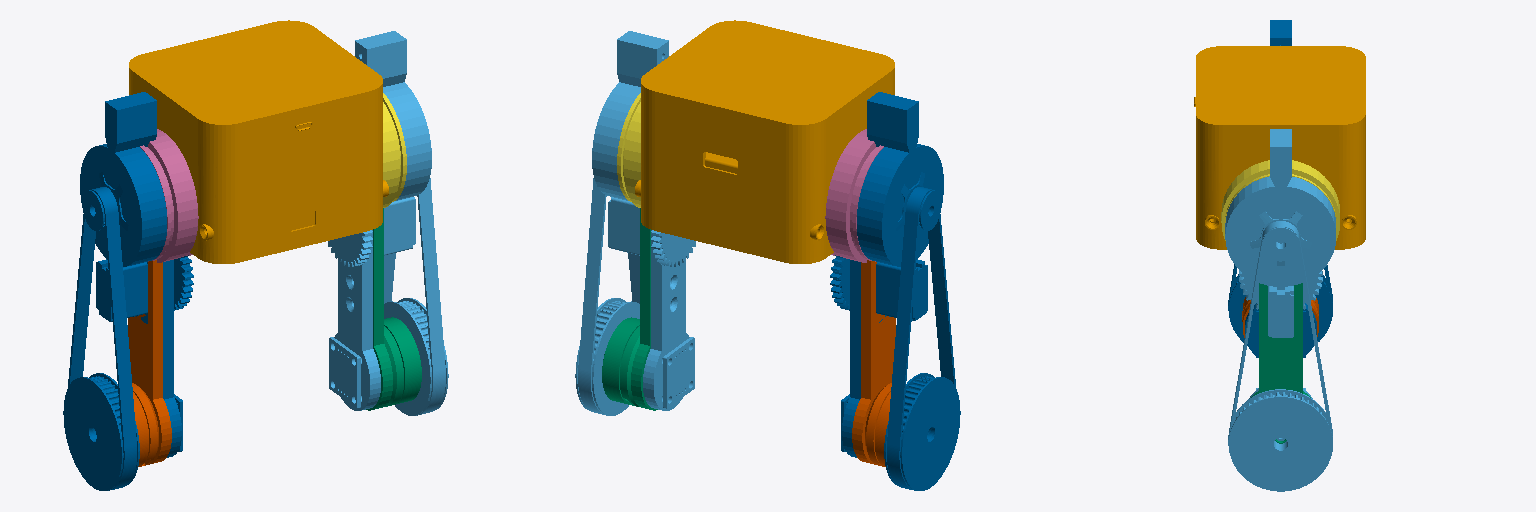
robot.urdf — ria:
<?xml version="1.0"?>
<robot name="ria">
  <mujoco>
    <compiler discardvisual="false" fusestatic="false" />
  </mujoco>
  <link name="head">
    <visual>
      <origin xyz="0 0 0" />
      <geometry><mesh filename="build/stl/head_top.stl" scale="0.001 0.001 0.001" /></geometry>
    </visual>
    <visual>
      <origin xyz="0 0 0" />
      <geometry><mesh filename="build/stl/head_bottom.stl" scale="0.001 0.001 0.001" /></geometry>
    </visual>
    <visual>
      <origin xyz="0 0 0" />
      <geometry><mesh filename="build/stl/head_tray.stl" scale="0.001 0.001 0.001" /></geometry>
    </visual>
    <visual>
      <origin xyz="0 0 0" />
      <geometry><mesh filename="build/stl/battery_shoe.stl" scale="0.001 0.001 0.001" /></geometry>
    </visual>
    <visual>
      <origin xyz="0 0 0" />
      <geometry><mesh filename="build/stl/tray_spacer_0.stl" scale="0.001 0.001 0.001" /></geometry>
    </visual>
    <visual>
      <origin xyz="0 0 0" />
      <geometry><mesh filename="build/stl/tray_spacer_1.stl" scale="0.001 0.001 0.001" /></geometry>
    </visual>
    <visual>
      <origin xyz="0 0 0" />
      <geometry><mesh filename="build/stl/tray_spacer_2.stl" scale="0.001 0.001 0.001" /></geometry>
    </visual>
    <visual>
      <origin xyz="0 0 0" />
      <geometry><mesh filename="build/stl/tray_spacer_3.stl" scale="0.001 0.001 0.001" /></geometry>
    </visual>
    <visual>
      <origin xyz="0 0 0" />
      <geometry><mesh filename="build/stl/simplefocmini_dual_0.stl" scale="0.001 0.001 0.001" /></geometry>
    </visual>
    <visual>
      <origin xyz="0 0 0" />
      <geometry><mesh filename="build/stl/simplefocmini_dual_1.stl" scale="0.001 0.001 0.001" /></geometry>
    </visual>
    <visual>
      <origin xyz="0 0 0" />
      <geometry><mesh filename="build/stl/tca9548a_2.stl" scale="0.001 0.001 0.001" /></geometry>
    </visual>
    <visual>
      <origin xyz="0 0 0" />
      <geometry><mesh filename="build/stl/mp1584_3.stl" scale="0.001 0.001 0.001" /></geometry>
    </visual>
    <visual>
      <origin xyz="0 0 0" />
      <geometry><mesh filename="build/stl/xt60h_m_4.stl" scale="0.001 0.001 0.001" /></geometry>
    </visual>
    <visual>
      <origin xyz="0 0 0" />
      <geometry><mesh filename="build/stl/tattu_lipo_5.stl" scale="0.001 0.001 0.001" /></geometry>
    </visual>
    <visual>
      <origin xyz="0 0 0" />
      <geometry><mesh filename="build/stl/pipico_6.stl" scale="0.001 0.001 0.001" /></geometry>
    </visual>
    <visual>
      <origin xyz="0 0 0" />
      <geometry><mesh filename="build/stl/mpu6050_7.stl" scale="0.001 0.001 0.001" /></geometry>
    </visual>
    <inertial>
      <origin xyz="-0.000508684 2.28536e-05 -0.0070686" />
      <mass value="0.248373" />
      <inertia ixx="0.000197886" ixy="2.19121e-06" ixz="2.16542e-06" iyy="0.000145722" iyz="-4.46007e-07" izz="0.00021414" />
    </inertial>
    <collision>
      <origin xyz="0 0 0" />
      <geometry><box size="0.08 0.084 0.06" /></geometry>
    </collision>
  </link>
  <link name="upper_leg_r">
    <visual>
      <origin xyz="0 0 0" />
      <geometry><mesh filename="build/stl/upper_leg.stl" scale="0.001 0.001 0.001" /></geometry>
    </visual>
    <visual>
      <origin xyz="0 0 0" />
      <geometry><mesh filename="build/stl/pinion.stl" scale="0.001 0.001 0.001" /></geometry>
    </visual>
    <visual>
      <origin xyz="0 0 0" />
      <geometry><mesh filename="build/stl/sprocket_upper.stl" scale="0.001 0.001 0.001" /></geometry>
    </visual>
    <visual>
      <origin xyz="0 0 0" />
      <geometry><mesh filename="build/stl/belt.stl" scale="0.001 0.001 0.001" /></geometry>
    </visual>
    <visual>
      <origin xyz="0 0 0" />
      <geometry><mesh filename="build/stl/ring.stl" scale="0.001 0.001 0.001" /></geometry>
    </visual>
    <visual>
      <origin xyz="0 0 0" />
      <geometry><mesh filename="build/stl/sun.stl" scale="0.001 0.001 0.001" /></geometry>
    </visual>
    <visual>
      <origin xyz="0 0 0" />
      <geometry><mesh filename="build/stl/pulley.stl" scale="0.001 0.001 0.001" /></geometry>
    </visual>
    <visual>
      <origin xyz="0 0 0" />
      <geometry><mesh filename="build/stl/magnet_knee.stl" scale="0.001 0.001 0.001" /></geometry>
    </visual>
    <visual>
      <origin xyz="0 0 0" />
      <geometry><mesh filename="build/stl/5010_body_0.stl" scale="0.001 0.001 0.001" /></geometry>
    </visual>
    <visual>
      <origin xyz="0 0 0" />
      <geometry><mesh filename="build/stl/5010_rotor_1.stl" scale="0.001 0.001 0.001" /></geometry>
    </visual>
    <visual>
      <origin xyz="0 0 0" />
      <geometry><mesh filename="build/stl/sg90_body_2.stl" scale="0.001 0.001 0.001" /></geometry>
    </visual>
    <visual>
      <origin xyz="0 0 0" />
      <geometry><mesh filename="build/stl/as5600_4.stl" scale="0.001 0.001 0.001" /></geometry>
    </visual>
    <inertial>
      <origin xyz="-6.60249e-20 -0.0230998 0.0162152" />
      <mass value="0.151281" />
      <inertia ixx="0.000248851" ixy="-1.57411e-21" ixz="3.31057e-22" iyy="3.20411e-05" iyz="3.60401e-07" izz="0.000260492" />
    </inertial>
    <collision>
      <origin xyz="0 -0.05 0.01415" />
      <geometry><box size="0.02 0.1 0.0365" /></geometry>
    </collision>
  </link>
  <link name="lower_leg_r">
    <visual>
      <origin xyz="0 0.1 0" />
      <geometry><mesh filename="build/stl/lower_leg.stl" scale="0.001 0.001 0.001" /></geometry>
    </visual>
    <visual>
      <origin xyz="0 0.1 0" />
      <geometry><mesh filename="build/stl/planet_0.stl" scale="0.001 0.001 0.001" /></geometry>
    </visual>
    <visual>
      <origin xyz="0 0.1 0" />
      <geometry><mesh filename="build/stl/planet_1.stl" scale="0.001 0.001 0.001" /></geometry>
    </visual>
    <visual>
      <origin xyz="0 0.1 0" />
      <geometry><mesh filename="build/stl/planet_2.stl" scale="0.001 0.001 0.001" /></geometry>
    </visual>
    <visual>
      <origin xyz="0 0.1 0" />
      <geometry><mesh filename="build/stl/magnet_ankle.stl" scale="0.001 0.001 0.001" /></geometry>
    </visual>
    <visual>
      <origin xyz="0 0.1 0" />
      <geometry><mesh filename="build/stl/gbm2804_3.stl" scale="0.001 0.001 0.001" /></geometry>
    </visual>
    <visual>
      <origin xyz="0 0.1 0" />
      <geometry><mesh filename="build/stl/as5600_5.stl" scale="0.001 0.001 0.001" /></geometry>
    </visual>
    <inertial>
      <origin xyz="1.57106e-05 -0.0884864 0.0145793" />
      <mass value="0.0567039" />
      <inertia ixx="5.55023e-05" ixy="1.02569e-08" ixz="-2.26787e-09" iyy="7.25703e-06" iyz="4.13978e-06" izz="5.86006e-05" />
    </inertial>
    <collision>
      <origin xyz="0 -0.05 0.0135" />
      <geometry><box size="0.02 0.1 0.0237" /></geometry>
    </collision>
  </link>
  <link name="wheel_r">
    <visual>
      <origin xyz="0 0.2 -0.02235" />
      <geometry><mesh filename="build/stl/wheel.stl" scale="0.001 0.001 0.001" /></geometry>
    </visual>
    <inertial>
      <origin xyz="5.07557e-19 8.18792e-19 0.00037003" />
      <mass value="0.0140451" />
      <inertia ixx="4.12562e-06" ixy="-8.91538e-25" ixz="-3.36057e-24" iyy="4.12562e-06" iyz="5.929e-23" izz="8.00021e-06" />
    </inertial>
    <collision>
      <origin xyz="0 0 0" />
      <geometry><cylinder radius="0.03" length="0.01" /></geometry>
    </collision>
  </link>
  <joint name="hip_r" type="revolute">
    <origin xyz="0.0441 0 -0.0128" rpy="1.5708 -0 1.5708" />
    <parent link="head" />
    <child link="upper_leg_r" />
    <axis xyz="0 0 1" />
    <limit lower="-1.9" upper="1.9" effort="0.25" velocity="8" />
  </joint>
  <joint name="knee_r" type="revolute">
    <origin xyz="0 -0.1 0" rpy="0 -0 0" />
    <parent link="upper_leg_r" />
    <child link="lower_leg_r" />
    <axis xyz="0 0 1" />
    <limit lower="-2.6" upper="2.6" effort="3" velocity="30" />
  </joint>
  <joint name="wheel_r" type="continuous">
    <origin xyz="0 -0.1 0.02235" rpy="0 -0 0" />
    <parent link="lower_leg_r" />
    <child link="wheel_r" />
    <axis xyz="0 0 1" />
    <limit effort="0.3" velocity="100" />
  </joint>
  <link name="upper_leg_l">
    <visual>
      <origin xyz="0 0 0" />
      <geometry><mesh filename="build/stl/upper_leg.stl" scale="0.001 0.001 0.001" /></geometry>
    </visual>
    <visual>
      <origin xyz="0 0 0" />
      <geometry><mesh filename="build/stl/pinion.stl" scale="0.001 0.001 0.001" /></geometry>
    </visual>
    <visual>
      <origin xyz="0 0 0" />
      <geometry><mesh filename="build/stl/sprocket_upper.stl" scale="0.001 0.001 0.001" /></geometry>
    </visual>
    <visual>
      <origin xyz="0 0 0" />
      <geometry><mesh filename="build/stl/belt.stl" scale="0.001 0.001 0.001" /></geometry>
    </visual>
    <visual>
      <origin xyz="0 0 0" />
      <geometry><mesh filename="build/stl/ring.stl" scale="0.001 0.001 0.001" /></geometry>
    </visual>
    <visual>
      <origin xyz="0 0 0" />
      <geometry><mesh filename="build/stl/sun.stl" scale="0.001 0.001 0.001" /></geometry>
    </visual>
    <visual>
      <origin xyz="0 0 0" />
      <geometry><mesh filename="build/stl/pulley.stl" scale="0.001 0.001 0.001" /></geometry>
    </visual>
    <visual>
      <origin xyz="0 0 0" />
      <geometry><mesh filename="build/stl/magnet_knee.stl" scale="0.001 0.001 0.001" /></geometry>
    </visual>
    <visual>
      <origin xyz="0 0 0" />
      <geometry><mesh filename="build/stl/5010_body_0.stl" scale="0.001 0.001 0.001" /></geometry>
    </visual>
    <visual>
      <origin xyz="0 0 0" />
      <geometry><mesh filename="build/stl/5010_rotor_1.stl" scale="0.001 0.001 0.001" /></geometry>
    </visual>
    <visual>
      <origin xyz="0 0 0" />
      <geometry><mesh filename="build/stl/sg90_body_2.stl" scale="0.001 0.001 0.001" /></geometry>
    </visual>
    <visual>
      <origin xyz="0 0 0" />
      <geometry><mesh filename="build/stl/as5600_4.stl" scale="0.001 0.001 0.001" /></geometry>
    </visual>
    <inertial>
      <origin xyz="-6.60249e-20 -0.0230998 0.0162152" />
      <mass value="0.151281" />
      <inertia ixx="0.000248851" ixy="-1.57411e-21" ixz="3.31057e-22" iyy="3.20411e-05" iyz="3.60401e-07" izz="0.000260492" />
    </inertial>
    <collision>
      <origin xyz="0 -0.05 0.01415" />
      <geometry><box size="0.02 0.1 0.0365" /></geometry>
    </collision>
  </link>
  <link name="lower_leg_l">
    <visual>
      <origin xyz="0 0.1 0" />
      <geometry><mesh filename="build/stl/lower_leg.stl" scale="0.001 0.001 0.001" /></geometry>
    </visual>
    <visual>
      <origin xyz="0 0.1 0" />
      <geometry><mesh filename="build/stl/planet_0.stl" scale="0.001 0.001 0.001" /></geometry>
    </visual>
    <visual>
      <origin xyz="0 0.1 0" />
      <geometry><mesh filename="build/stl/planet_1.stl" scale="0.001 0.001 0.001" /></geometry>
    </visual>
    <visual>
      <origin xyz="0 0.1 0" />
      <geometry><mesh filename="build/stl/planet_2.stl" scale="0.001 0.001 0.001" /></geometry>
    </visual>
    <visual>
      <origin xyz="0 0.1 0" />
      <geometry><mesh filename="build/stl/magnet_ankle.stl" scale="0.001 0.001 0.001" /></geometry>
    </visual>
    <visual>
      <origin xyz="0 0.1 0" />
      <geometry><mesh filename="build/stl/gbm2804_3.stl" scale="0.001 0.001 0.001" /></geometry>
    </visual>
    <visual>
      <origin xyz="0 0.1 0" />
      <geometry><mesh filename="build/stl/as5600_5.stl" scale="0.001 0.001 0.001" /></geometry>
    </visual>
    <inertial>
      <origin xyz="1.57106e-05 -0.0884864 0.0145793" />
      <mass value="0.0567039" />
      <inertia ixx="5.55023e-05" ixy="1.02569e-08" ixz="-2.26787e-09" iyy="7.25703e-06" iyz="4.13978e-06" izz="5.86006e-05" />
    </inertial>
    <collision>
      <origin xyz="0 -0.05 0.0135" />
      <geometry><box size="0.02 0.1 0.0237" /></geometry>
    </collision>
  </link>
  <link name="wheel_l">
    <visual>
      <origin xyz="0 0.2 -0.02235" />
      <geometry><mesh filename="build/stl/wheel.stl" scale="0.001 0.001 0.001" /></geometry>
    </visual>
    <inertial>
      <origin xyz="5.07557e-19 8.18792e-19 0.00037003" />
      <mass value="0.0140451" />
      <inertia ixx="4.12562e-06" ixy="-8.91538e-25" ixz="-3.36057e-24" iyy="4.12562e-06" iyz="5.929e-23" izz="8.00021e-06" />
    </inertial>
    <collision>
      <origin xyz="0 0 0" />
      <geometry><cylinder radius="0.03" length="0.01" /></geometry>
    </collision>
  </link>
  <joint name="hip_l" type="revolute">
    <origin xyz="-0.0441 0 -0.0128" rpy="1.5708 -0 -1.5708" />
    <parent link="head" />
    <child link="upper_leg_l" />
    <axis xyz="0 0 1" />
    <limit lower="-1.9" upper="1.9" effort="0.25" velocity="8" />
  </joint>
  <joint name="knee_l" type="revolute">
    <origin xyz="0 -0.1 0" rpy="0 -0 0" />
    <parent link="upper_leg_l" />
    <child link="lower_leg_l" />
    <axis xyz="0 0 1" />
    <limit lower="-2.6" upper="2.6" effort="3" velocity="30" />
  </joint>
  <joint name="wheel_l" type="continuous">
    <origin xyz="0 -0.1 0.02235" rpy="0 -0 0" />
    <parent link="lower_leg_l" />
    <child link="wheel_l" />
    <axis xyz="0 0 1" />
    <limit effort="0.3" velocity="100" />
  </joint>
</robot>

--- What the picture shows (computed from the rendered views, not written in the file) ---
The picture shows the robot from 3 angles, left to right: view 1: azimuth 30°, elevation 25°; view 2: azimuth 150°, elevation 25°; view 3: azimuth 270°, elevation 25°; orthographic projection.
Robot: ria — 7 links, 6 joints (4 revolute, 2 continuous); root link head; default pose: all joints at 0.
Visible links, largest first — view 1: head, upper_leg_l, upper_leg_r, lower_leg_l, lower_leg_r, wheel_l, wheel_r; view 2: head, upper_leg_l, upper_leg_r, lower_leg_l, lower_leg_r, wheel_l, wheel_r; view 3: head, upper_leg_r, lower_leg_r, upper_leg_l, wheel_r.
Link boxes in pixels (x1,y1,x2,y2): head: (129,20,388,263); upper_leg_l: (63,92,193,490); upper_leg_r: (328,31,448,415); lower_leg_l: (128,260,171,466); lower_leg_r: (366,208,421,410); wheel_l: (140,129,198,262); wheel_r: (383,93,406,207); head: (635,20,894,263); upper_leg_l: (830,92,960,490); upper_leg_r: (575,31,695,415); lower_leg_l: (852,260,895,466); lower_leg_r: (602,208,657,410); wheel_l: (825,129,883,262); wheel_r: (617,93,640,207); head: (1194,46,1365,249); upper_leg_r: (1225,129,1335,491); lower_leg_r: (1251,283,1310,443); upper_leg_l: (1228,20,1332,357); wheel_r: (1221,160,1339,240).
Bounding box of the posed robot: 0.153 × 0.0778 × 0.1688 m (x, y, z).
Meshes: 36 distinct files referenced, 56 mesh visuals loaded (36 binary STL).
